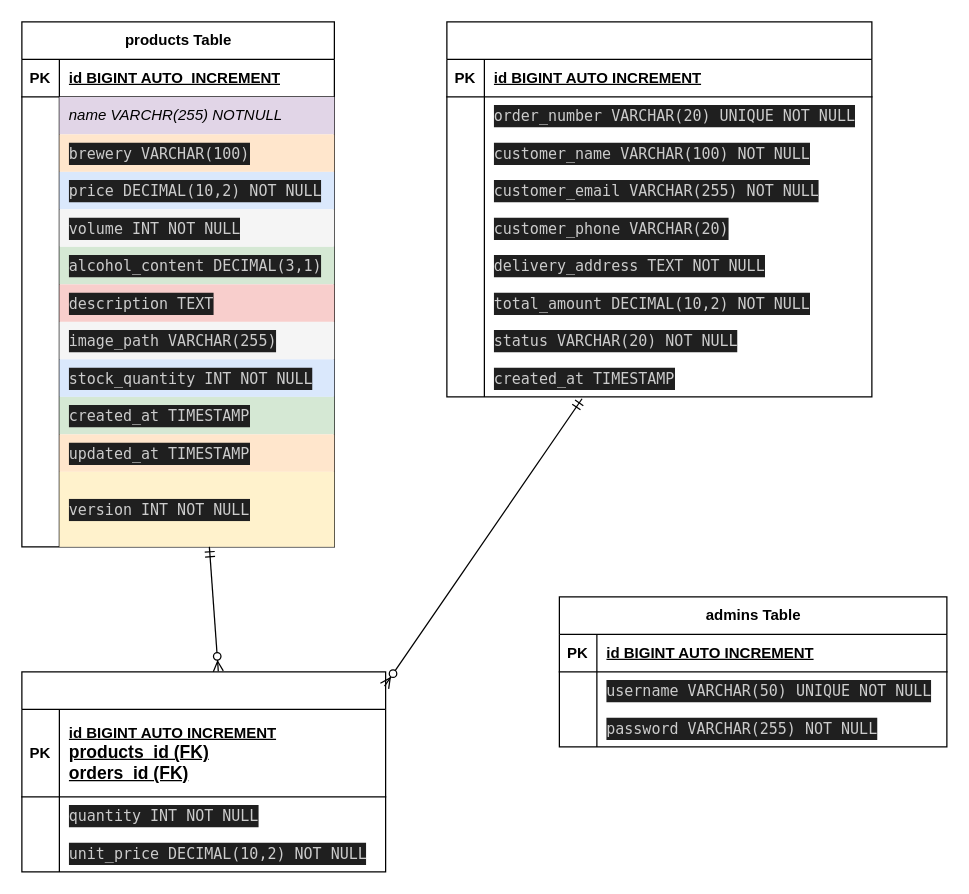
The diagram is 969 pixels wide and 894 high, and some of its shapes have lost their labels. Here are the shapes that lost their labels. From the top down, the box of each, then its label:
(446, 21, 872, 397): ordres Table
(21, 671, 386, 872): order_items Table
